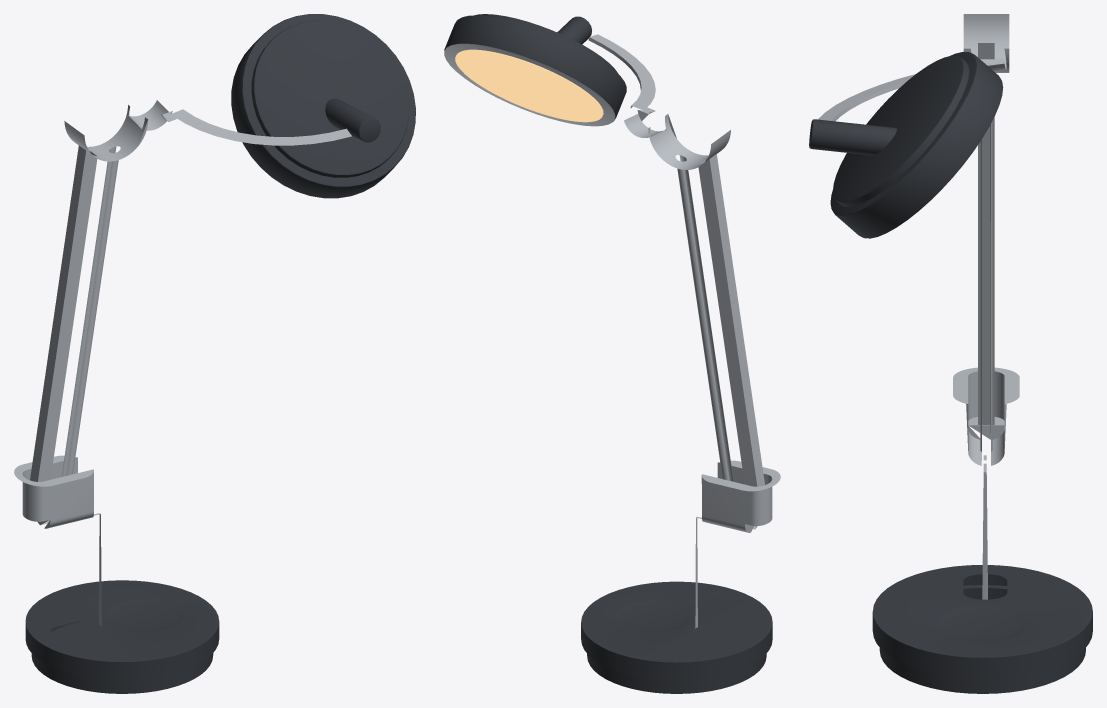
The model's file is lamp.glb.
3 renders of one model, left to right at view 1: azimuth 30°, elevation 25°; view 2: azimuth 150°, elevation 25°; view 3: azimuth 270°, elevation 25°, orthographic. The views are drawn at different scales.
Visible parts, largest first — view 1: lamp_body, lamp_head; view 2: lamp_body, lamp_head, lamp_glass; view 3: lamp_body, lamp_head.
Boxes of the visible parts, left/top/right/bottom form: lamp_body: left=14, top=100, right=351, bottom=693; lamp_head: left=231, top=14, right=415, bottom=198; lamp_body: left=581, top=34, right=780, bottom=693; lamp_head: left=444, top=14, right=626, bottom=126; lamp_glass: left=455, top=49, right=603, bottom=122; lamp_body: left=818, top=14, right=1092, bottom=693; lamp_head: left=809, top=52, right=1003, bottom=238.
Bounding box in the file's own units: 0.3718 × 0.6 × 0.2267.
